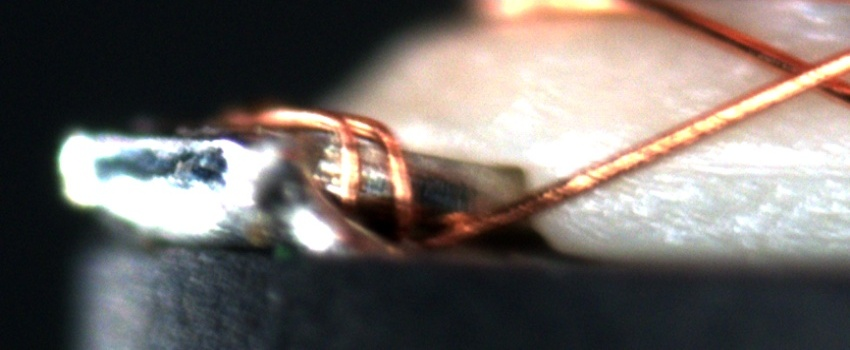CL: (757, 43, 846, 104)
DL: (624, 139, 850, 203)
TE: (235, 98, 428, 239)
